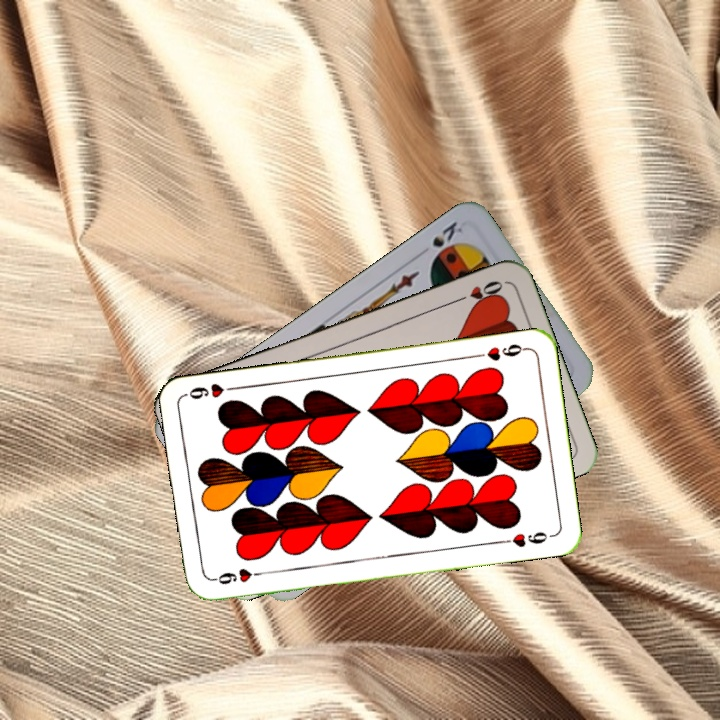H9: (471, 339, 530, 363), (209, 564, 268, 587)
HO: (450, 276, 506, 307)
SK: (427, 217, 465, 263)
